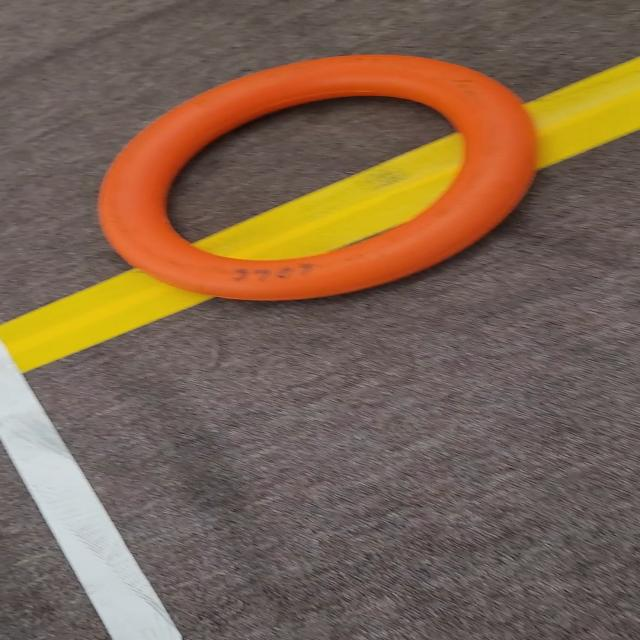note: (89, 49, 549, 314)
